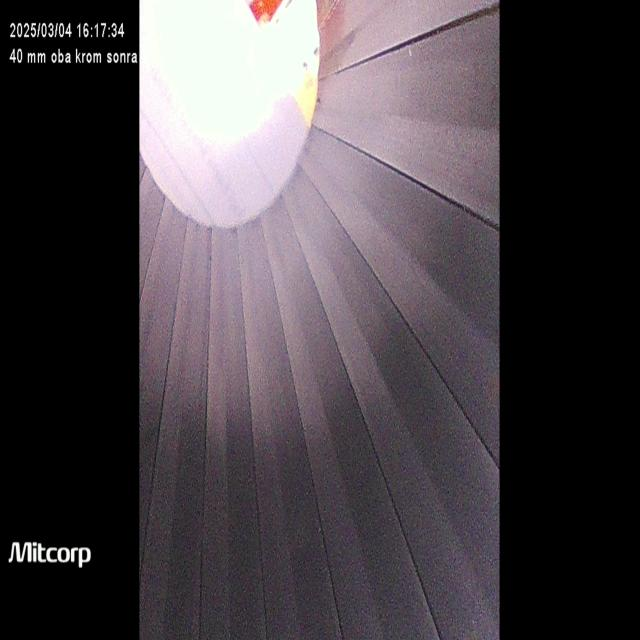hata_8.2: (173, 472, 250, 592)
